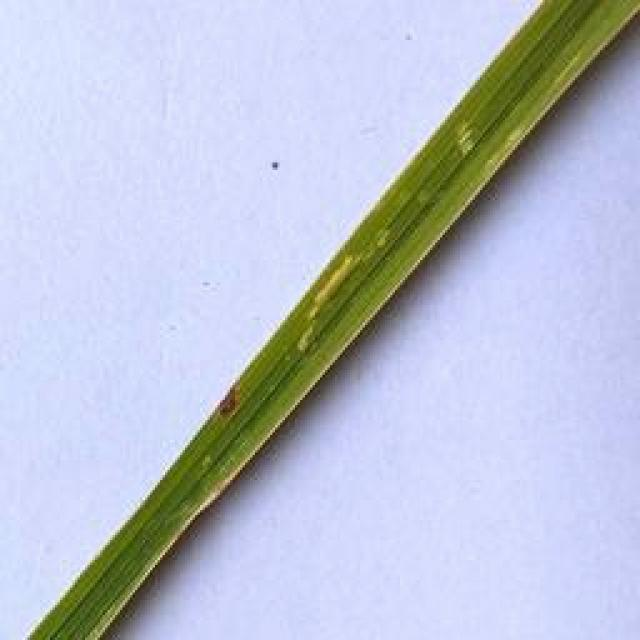Unhealthy: (85, 0, 640, 640), (311, 251, 367, 320), (212, 382, 241, 420), (456, 117, 477, 155), (295, 326, 314, 352)
